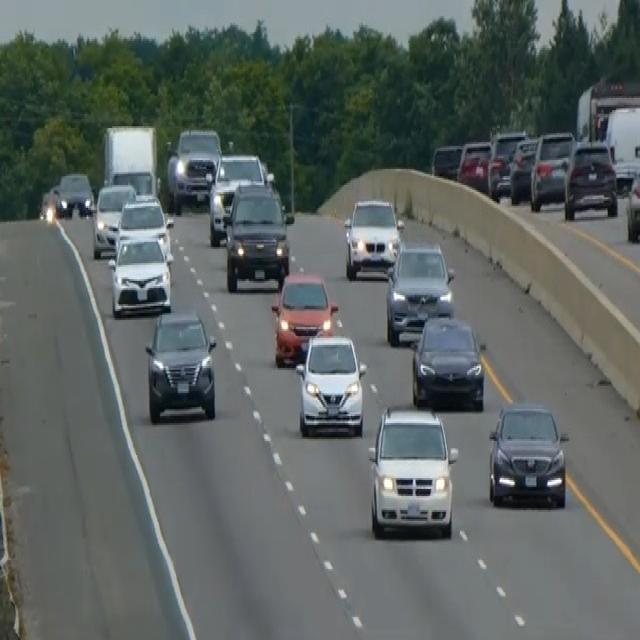car: (487, 400, 567, 508), (144, 308, 217, 423), (223, 180, 293, 292), (295, 329, 366, 437), (410, 313, 485, 411), (385, 242, 455, 345), (270, 270, 338, 366), (107, 231, 172, 317), (207, 151, 265, 245), (343, 196, 401, 279), (166, 126, 221, 210), (563, 137, 618, 220), (116, 192, 173, 261), (529, 128, 574, 212), (91, 181, 136, 258), (604, 103, 639, 189), (487, 128, 526, 199), (509, 135, 538, 205), (50, 171, 94, 217), (457, 138, 492, 194), (431, 142, 462, 180), (625, 164, 639, 242), (38, 187, 62, 224)
lorry: (574, 71, 639, 146)
minivan: (366, 400, 459, 540)
truck: (102, 121, 159, 197)
